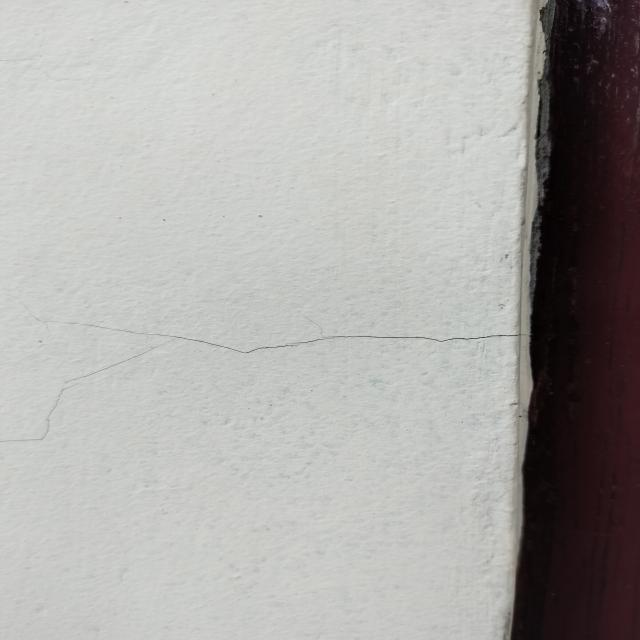Crack: (9, 297, 522, 447)
